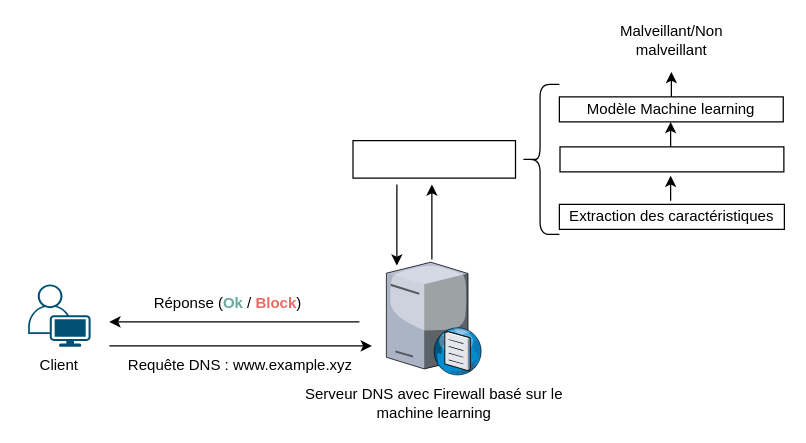
This 806x443 diagram has some shape labels left out. The shapes that lost their labels are listed below. From the top down, each one's centre as x and y in pixels, then its label:
At (x=434, y=158): "Analyse de la requête".
At (x=671, y=159): "Prétraitement des données".
